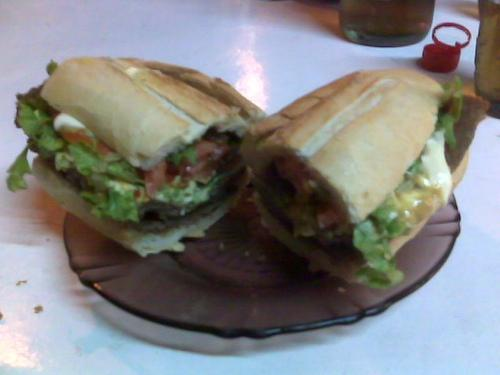lettuce: (252, 172, 354, 241), (353, 204, 412, 288), (14, 84, 67, 152), (435, 75, 465, 149), (6, 141, 40, 193), (397, 144, 426, 192), (67, 140, 104, 177), (192, 174, 227, 204), (163, 140, 199, 166)
tomato: (275, 158, 319, 201), (138, 159, 178, 197), (195, 138, 224, 162), (61, 127, 93, 146)
